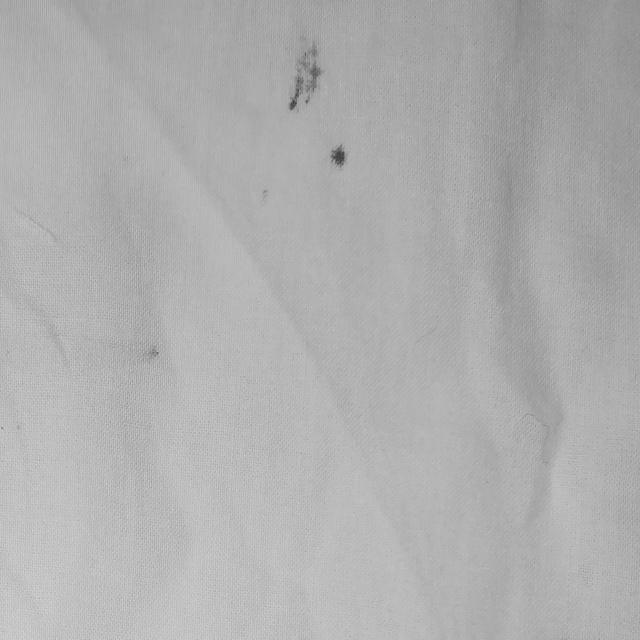Stain: (289, 43, 323, 109), (331, 144, 346, 166), (145, 346, 161, 363), (260, 188, 268, 205)
